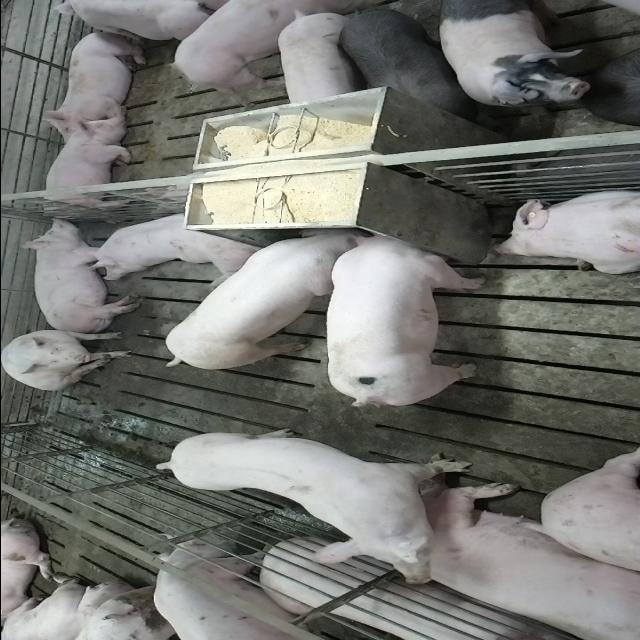Feeding: (160, 228, 366, 375), (322, 231, 484, 413)
Lateral_lying: (15, 216, 142, 333)
Sitting: (1, 328, 134, 390)
Standing: (158, 428, 482, 586), (162, 0, 384, 93), (156, 542, 348, 640), (332, 5, 476, 120), (436, 6, 588, 112), (276, 10, 358, 108)
Sternal_lying: (365, 489, 635, 640), (490, 187, 640, 275), (71, 206, 259, 276), (40, 28, 148, 131), (34, 116, 134, 216)
